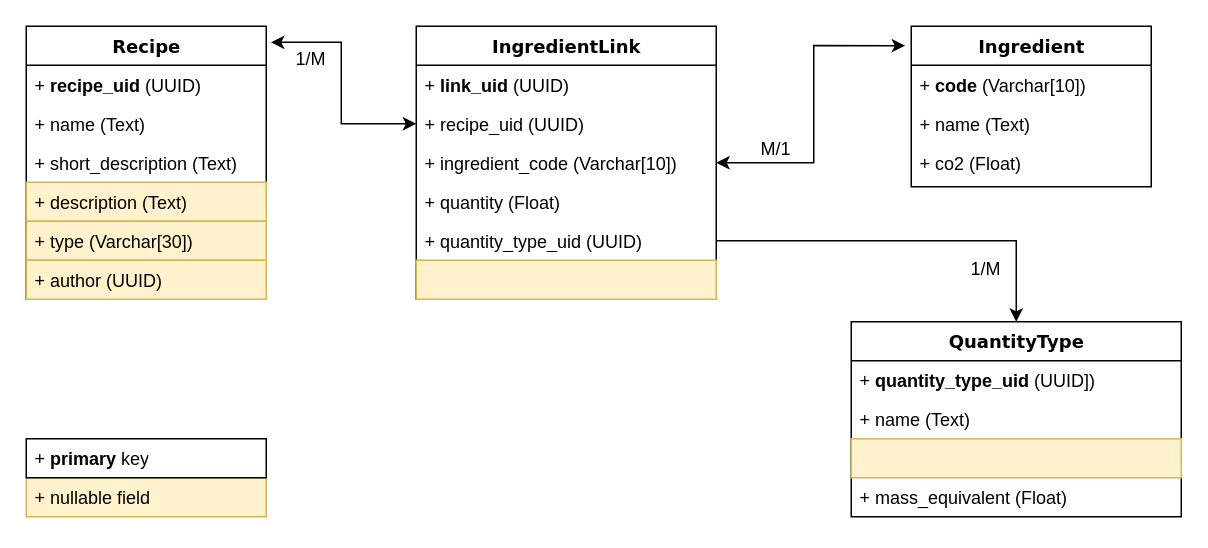
Image size: 1208x548. Some labels were removed from this diagram. The centre of each missing label's shape, as x and y in pixels:
+ localized_key (Varchar[100]): pixel 1015 457
+ reference_quantity (Float): pixel 565 279
